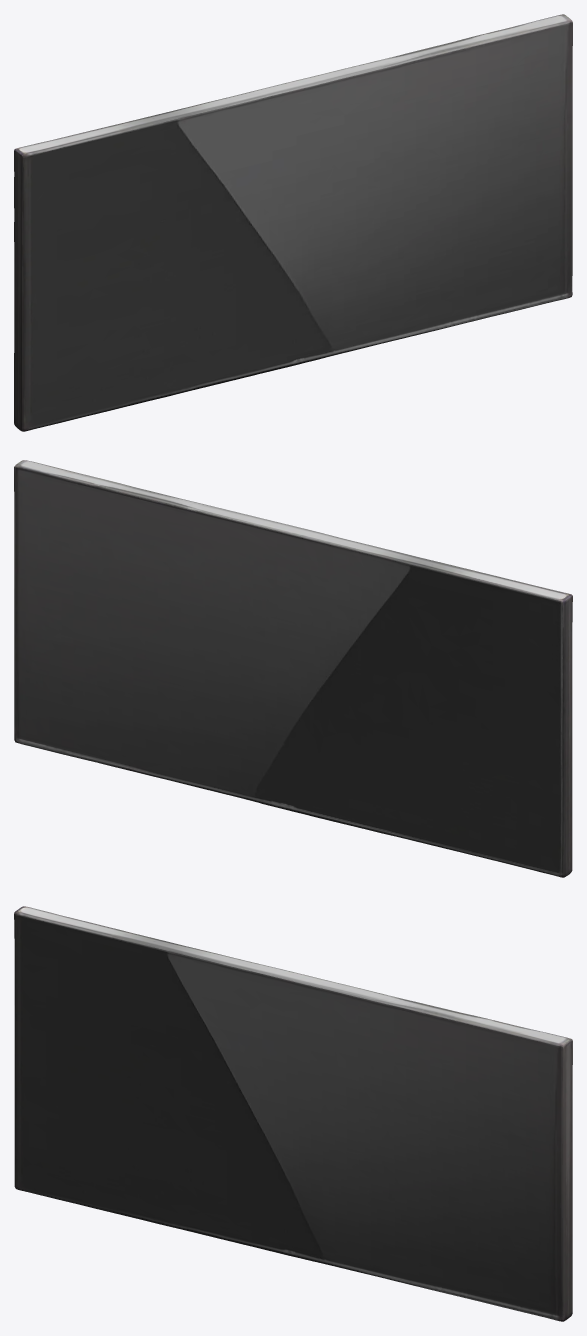
The model's file is ast_cab487441837.glb.
The picture shows the model from 3 angles, top to bottom: view 1: azimuth 30°, elevation 25°; view 2: azimuth 150°, elevation 25°; view 3: azimuth 330°, elevation 25°; orthographic projection.
Visible parts, largest first — view 1: geometry_0; view 2: geometry_0; view 3: geometry_0.
Boxes of the visible parts, x1,y1,x2,y2 form: geometry_0: (14,14,572,431); geometry_0: (14,460,572,877); geometry_0: (14,906,572,1321).
Size of the model in its own units: 1 by 0.4861 by 0.0328.
1 material, 1 textured.
